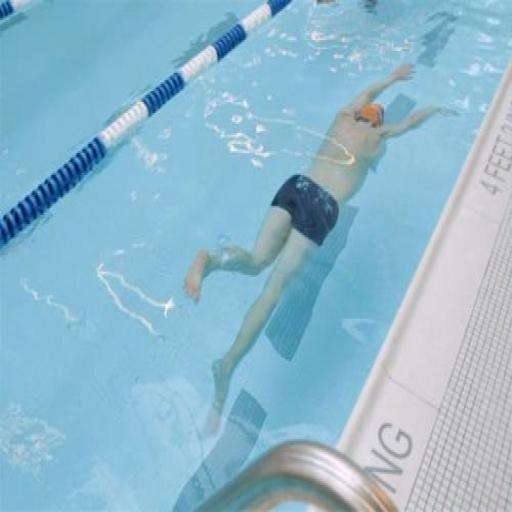swimming: (181, 58, 460, 441)
